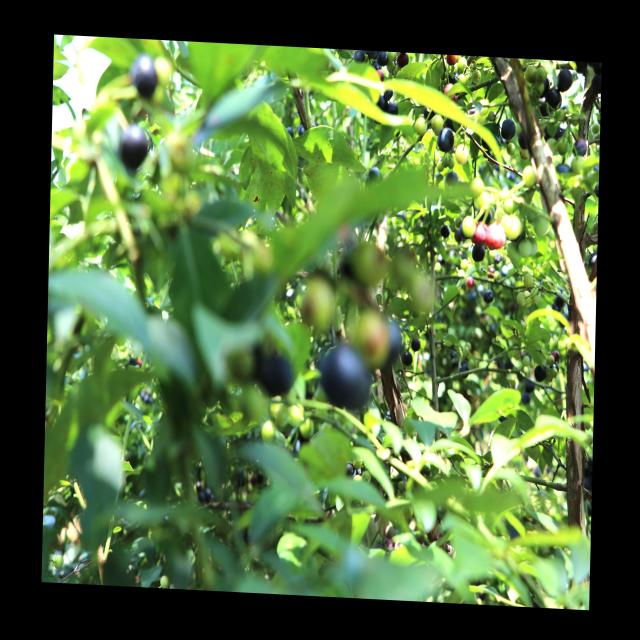blueberry: (320, 342, 372, 412), (251, 339, 295, 399), (116, 123, 150, 172), (132, 48, 160, 100), (435, 127, 454, 154), (556, 66, 574, 92), (542, 122, 560, 145), (499, 118, 516, 140), (572, 137, 588, 160), (475, 206, 492, 226), (546, 88, 562, 108), (537, 95, 551, 117), (517, 130, 530, 152), (533, 362, 546, 382), (395, 52, 410, 69), (472, 244, 486, 262), (400, 349, 414, 367), (350, 50, 366, 65), (481, 287, 495, 304), (559, 119, 570, 140), (539, 76, 549, 98), (554, 162, 572, 174), (344, 459, 356, 477), (374, 51, 388, 66), (410, 336, 422, 353), (508, 525, 520, 542), (423, 104, 434, 122), (445, 71, 459, 84), (386, 100, 399, 114), (523, 378, 536, 392), (519, 390, 532, 404), (383, 85, 394, 101), (457, 361, 469, 375), (439, 224, 450, 238), (500, 263, 509, 278), (454, 232, 462, 241)
blueberry-halfripe: (485, 222, 505, 248), (470, 223, 487, 245), (465, 276, 475, 288), (486, 266, 494, 278)
blueberry-unripe: (531, 214, 549, 236), (454, 143, 469, 165), (414, 116, 428, 136), (522, 165, 536, 185), (461, 216, 475, 236), (518, 237, 532, 254), (530, 286, 542, 304), (431, 115, 444, 131), (522, 273, 534, 289), (516, 292, 528, 306), (529, 236, 537, 255), (522, 292, 532, 306)
